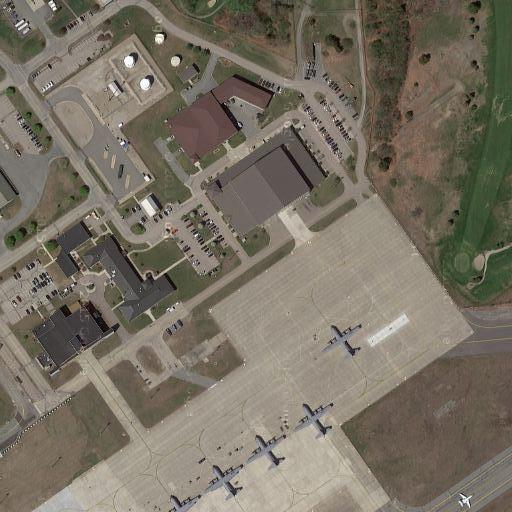C-130: (321, 320, 367, 364), (247, 428, 292, 472), (291, 401, 338, 442), (202, 464, 247, 504)
